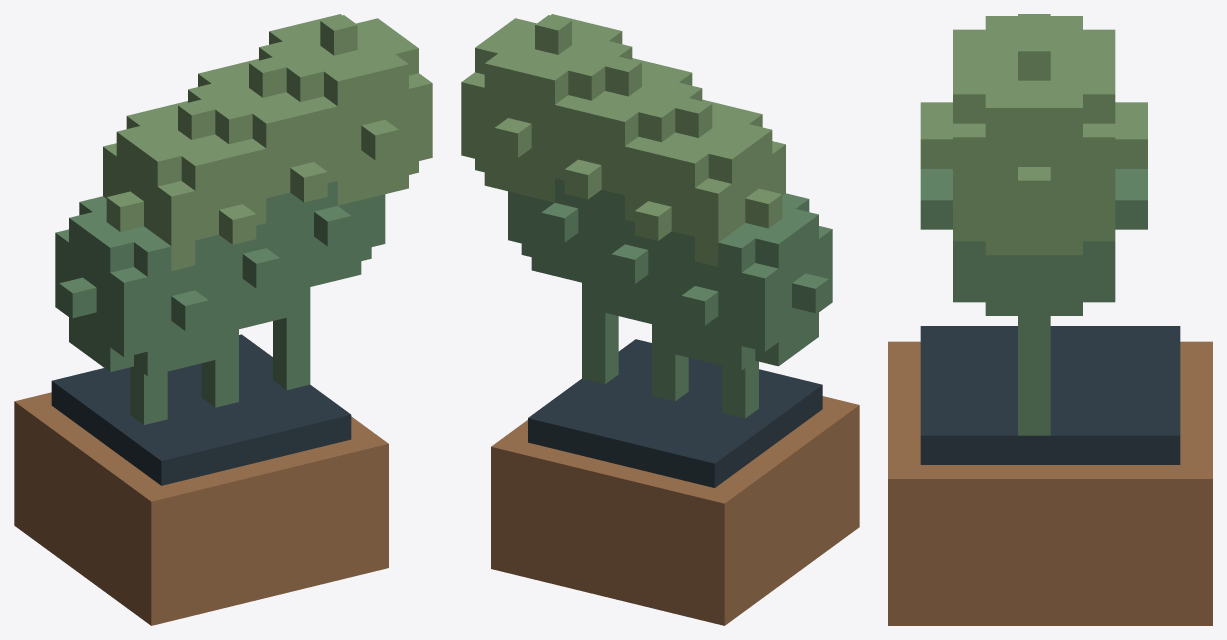
File: iot-13.glb
The picture shows the model from 3 angles, left to right: view 1: azimuth 30°, elevation 25°; view 2: azimuth 150°, elevation 25°; view 3: azimuth 270°, elevation 25°; orthographic projection. The views are drawn at different scales.
Visible parts, largest first — view 1: Garden sensor; view 2: Garden sensor; view 3: Garden sensor.
Boxes of the visible parts, x1,y1,x2,y2 form: Garden sensor: (14, 14, 432, 625); Garden sensor: (461, 14, 859, 625); Garden sensor: (888, 14, 1212, 625).
Bounding box in the file's own units: 1.2 × 1.6 × 0.8.
